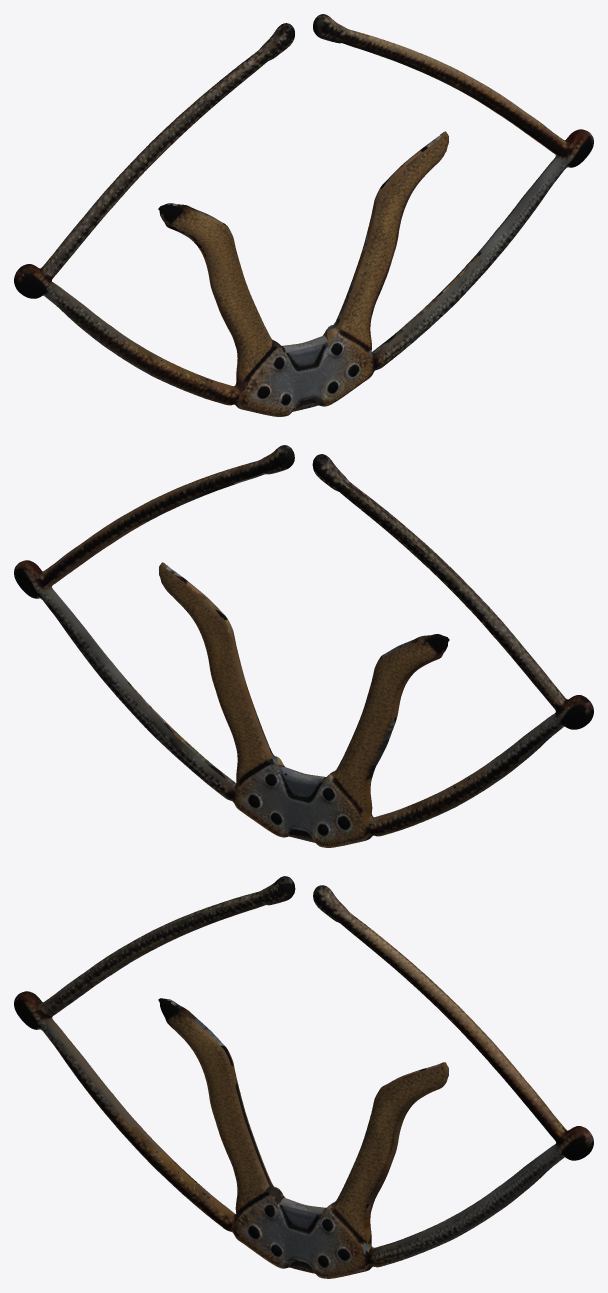
Rendered from source-83.glb.
3 renders of one model, top to bottom at view 1: azimuth 30°, elevation 25°; view 2: azimuth 150°, elevation 25°; view 3: azimuth 330°, elevation 25°, orthographic.
Parts seen in each view (by area): view 1: tmpyzjnekjl.ply; view 2: tmpyzjnekjl.ply; view 3: tmpyzjnekjl.ply.
Boxes of the visible parts, bbox=[...] form: tmpyzjnekjl.ply: bbox=[14, 14, 593, 416]; tmpyzjnekjl.ply: bbox=[14, 445, 593, 847]; tmpyzjnekjl.ply: bbox=[14, 876, 593, 1278].
Bounding box in the file's own units: 1.96 × 1.27 × 0.0679.
1 material, 1 textured.
